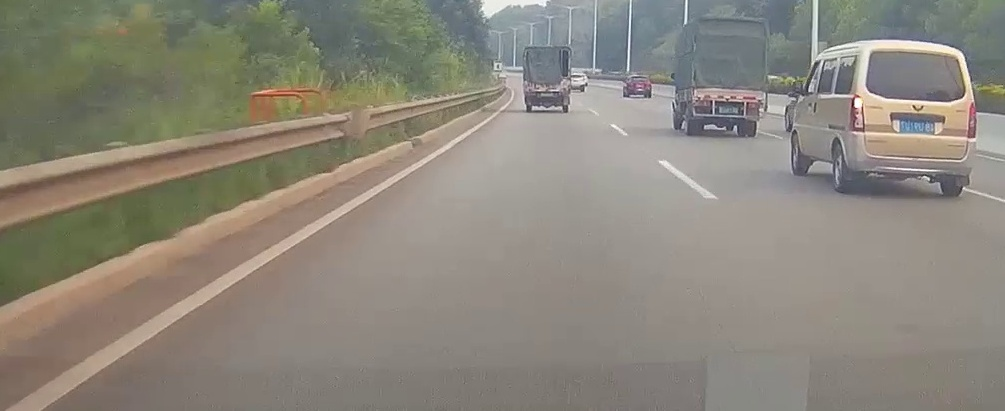L_light: (850, 94, 865, 132), (696, 101, 710, 106)
R_light: (967, 101, 977, 138), (748, 102, 761, 109)
T_light: (907, 51, 926, 57), (724, 96, 731, 99)
day-left: (847, 40, 978, 197)
day-no: (690, 15, 769, 138)
